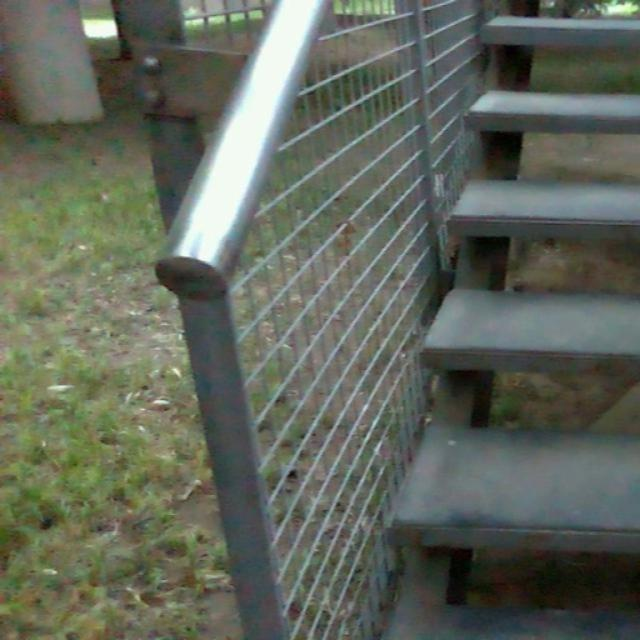stair: (488, 4, 640, 589)
